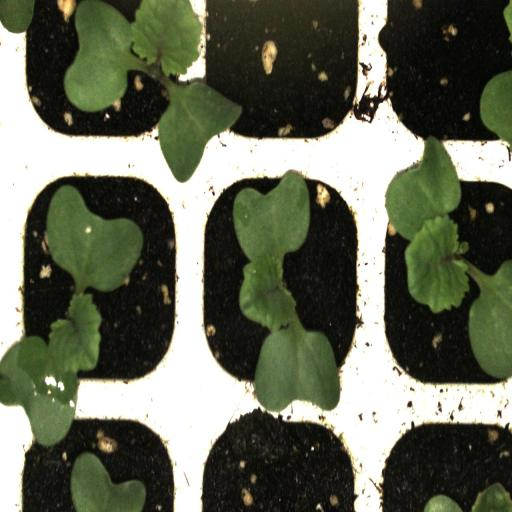noseedling: (191, 0, 375, 161)
seedling: (187, 164, 375, 402), (6, 164, 190, 398), (373, 162, 512, 400), (13, 0, 191, 159)
